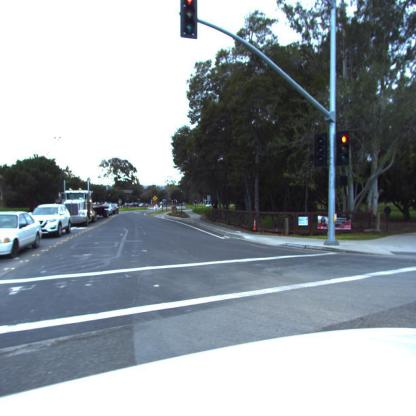car: (0, 212, 43, 260), (32, 203, 72, 237), (99, 204, 115, 216), (105, 204, 119, 216)
truck: (62, 190, 96, 228)
